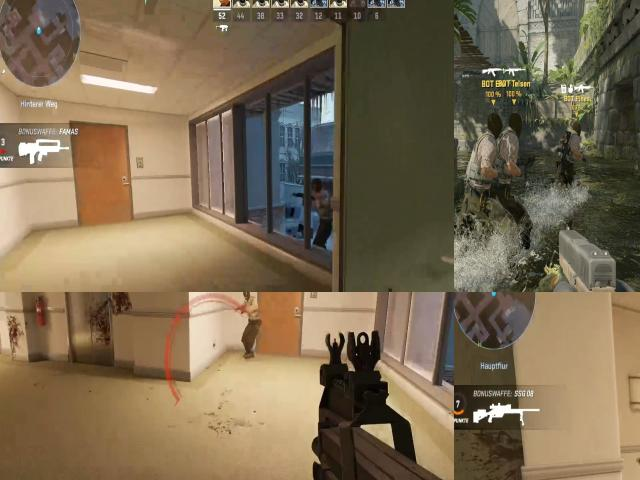T: (457, 108, 502, 270), (491, 103, 529, 258), (551, 112, 590, 210), (238, 292, 263, 351), (311, 175, 332, 239)
T-Head: (506, 107, 526, 139), (486, 110, 504, 137), (310, 175, 326, 196), (568, 119, 585, 138), (239, 292, 255, 303)
